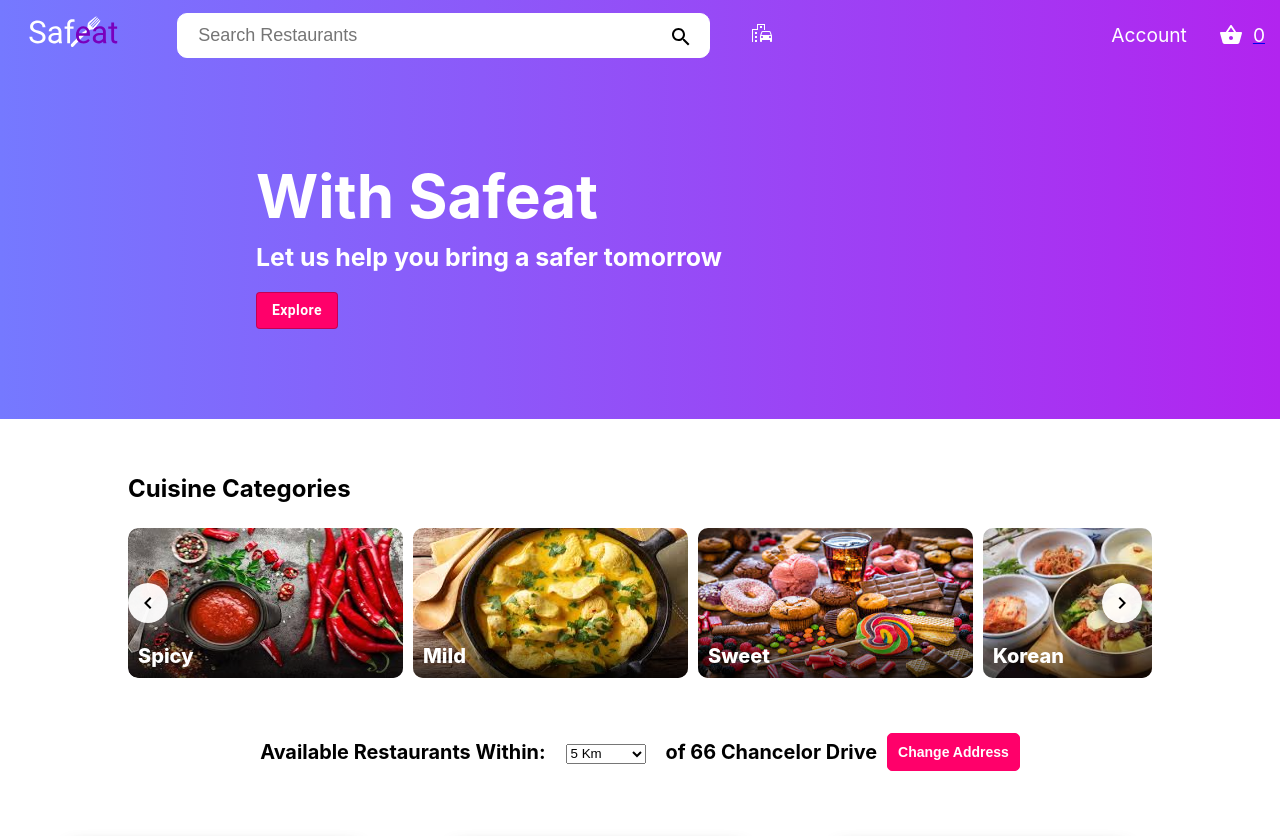
Filter Restaurants
What coordinates should you click on to do the following:
click the text "Sweet"
I would click on:
 (739, 656)
Its box is [708,644,770,668].
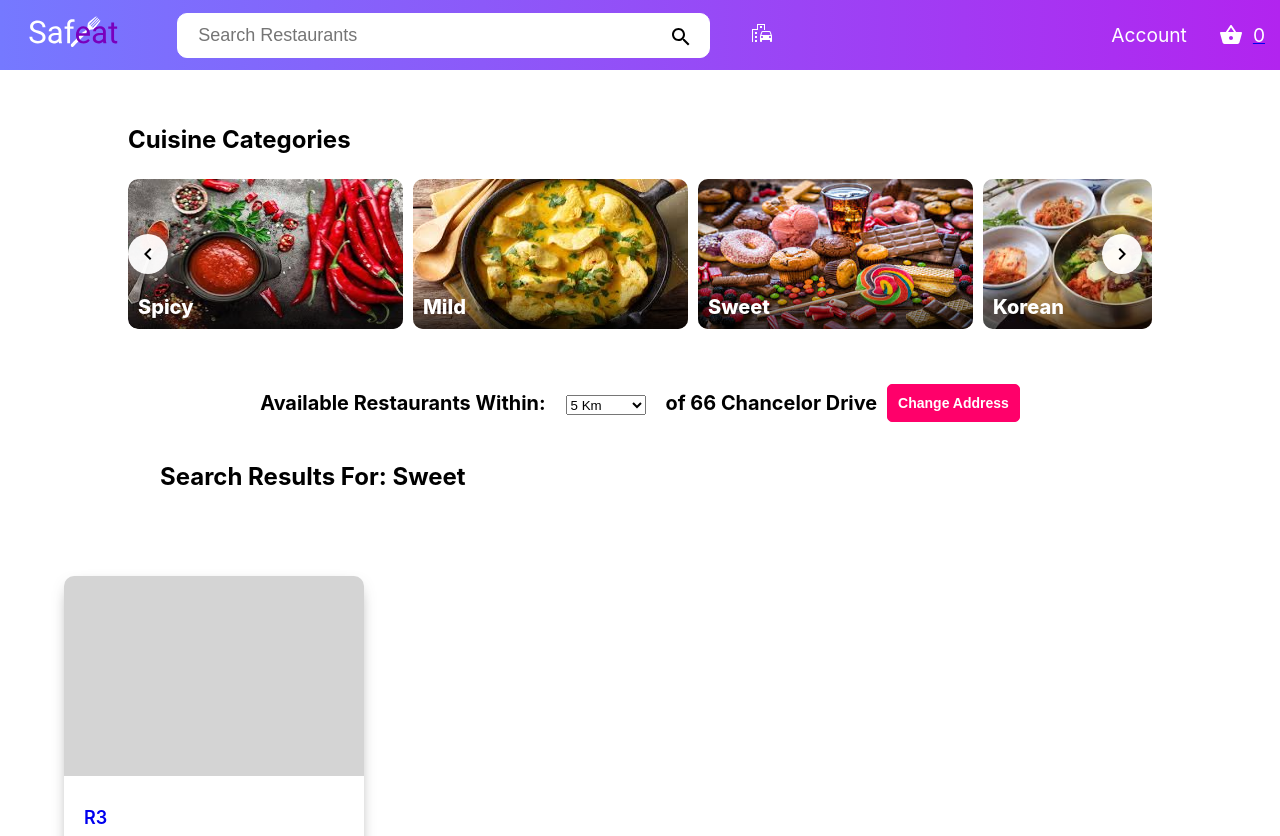
expect the heading "R3" is shown: met, box [84,807,107,828]
expect the heading "Search Results For: Sweet" is shown: met, box [160,462,466,491]
